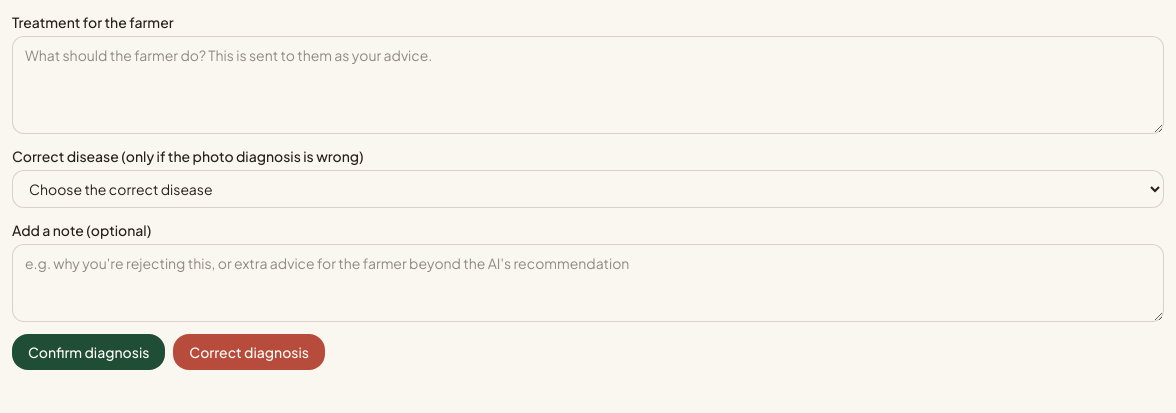
it: ApproveRejectControls › will not confirm held-back photo advice without the treatment for the farmer
Click the button "Confirm diagnosis".
click(89, 352)  # box [12,334,165,370]
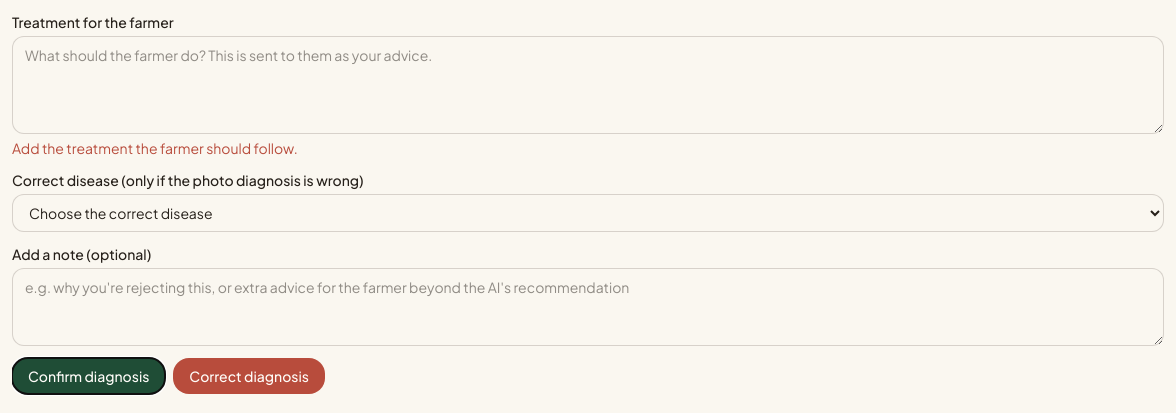
Result: the text "Add the treatment the farmer should follow." is shown at [12,139,298,157]
